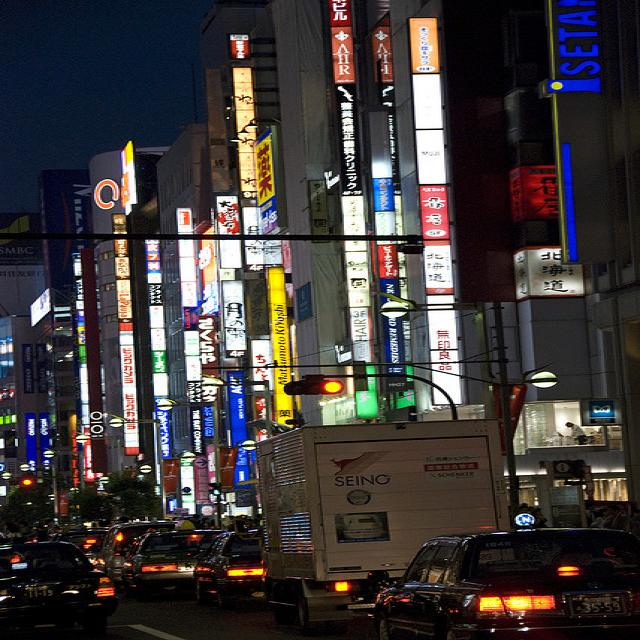Vehicle: (261, 423, 514, 584), (371, 526, 639, 640), (0, 541, 117, 625), (120, 520, 224, 600), (196, 530, 264, 607), (101, 520, 178, 575), (49, 526, 112, 574)
